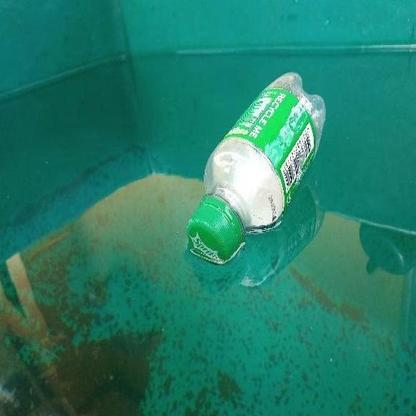plastic bottle: (186, 71, 328, 262)
